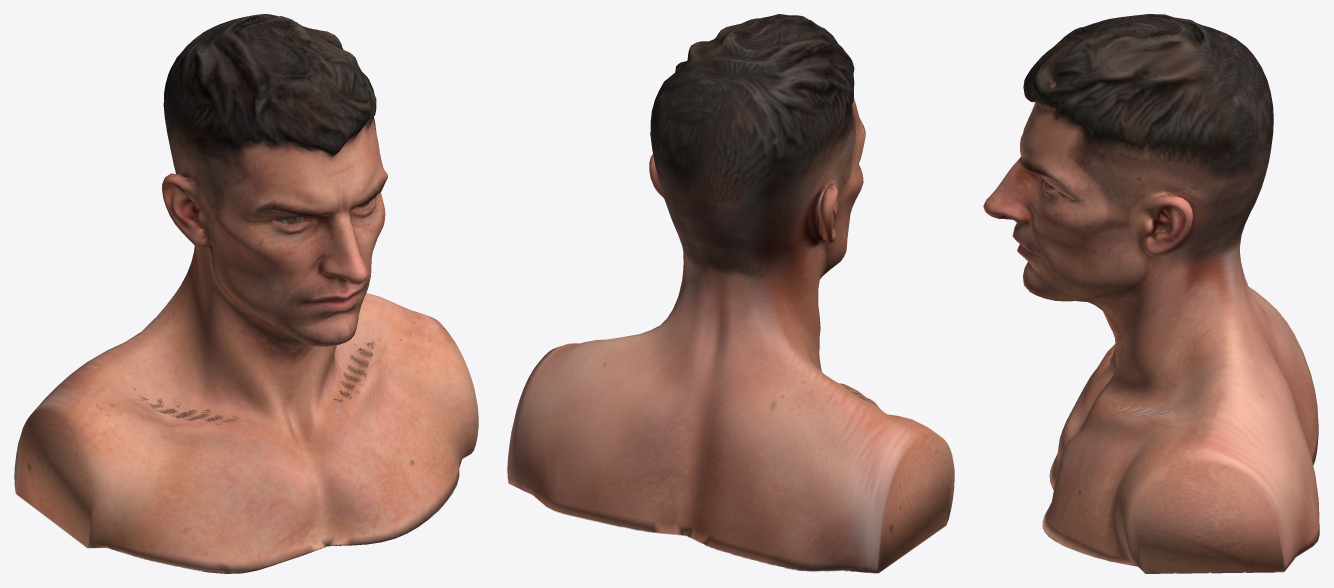
The model's file is HEAD.glb.
3 views of the same model, side by side, from view 1: azimuth 30°, elevation 25°; view 2: azimuth 150°, elevation 25°; view 3: azimuth 270°, elevation 25° (orthographic). The views are drawn at different scales.
Parts seen in each view (by area): view 1: part_00000001.005; view 2: part_00000001.005; view 3: part_00000001.005.
Boxes of the visible parts, bbox=[...] form: part_00000001.005: bbox=[14, 14, 478, 573]; part_00000001.005: bbox=[507, 14, 954, 573]; part_00000001.005: bbox=[983, 14, 1319, 573].
Size of the model in its own units: 0.3386 by 0.4108 by 0.2631.
Materials: 1 (1 with a texture image).
